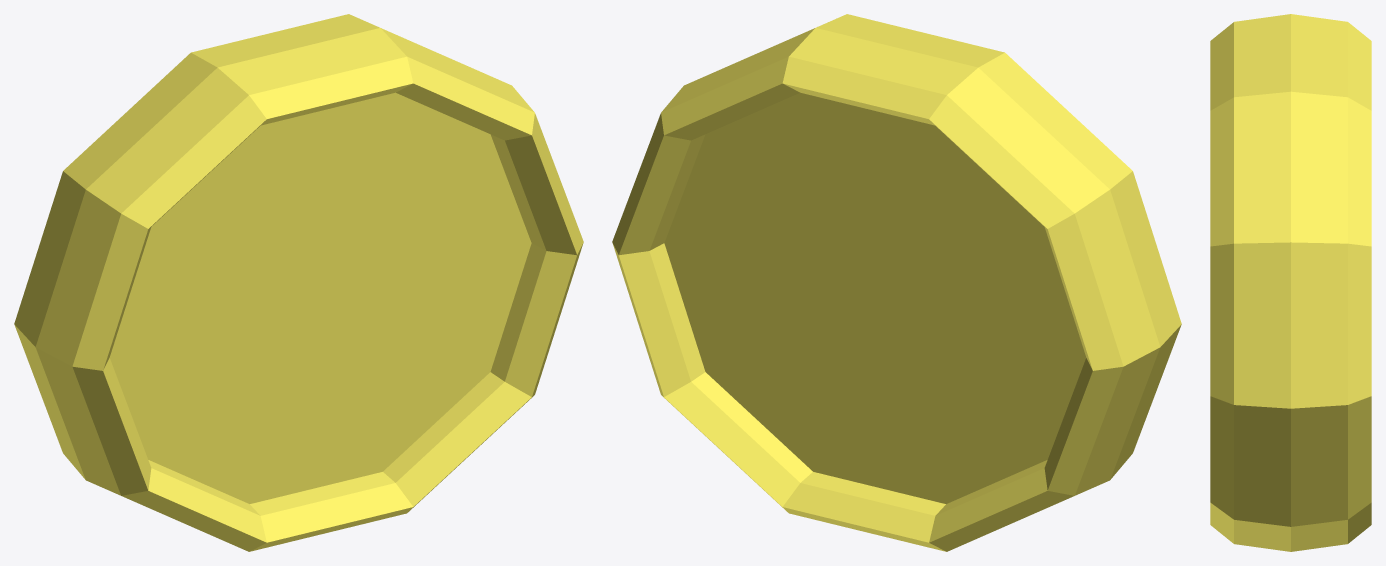
Rendered from Coinaaa.gltf.
The picture shows the model from 3 angles, left to right: view 1: azimuth 30°, elevation 25°; view 2: azimuth 150°, elevation 25°; view 3: azimuth 270°, elevation 25°; orthographic projection. The views are drawn at different scales.
Visible parts, largest first — view 1: cylinder, torus; view 2: cylinder, torus; view 3: torus.
Boxes of the visible parts, x1,y1,x2,y2 form: cylinder: (109, 92, 531, 503); torus: (14, 14, 583, 551); cylinder: (664, 92, 1086, 503); torus: (612, 14, 1181, 551); torus: (1210, 14, 1371, 551).
Bounding box in the file's own units: 0.2197 × 0.1875 × 0.0595.
Materials: 1 (1 with a texture image).
